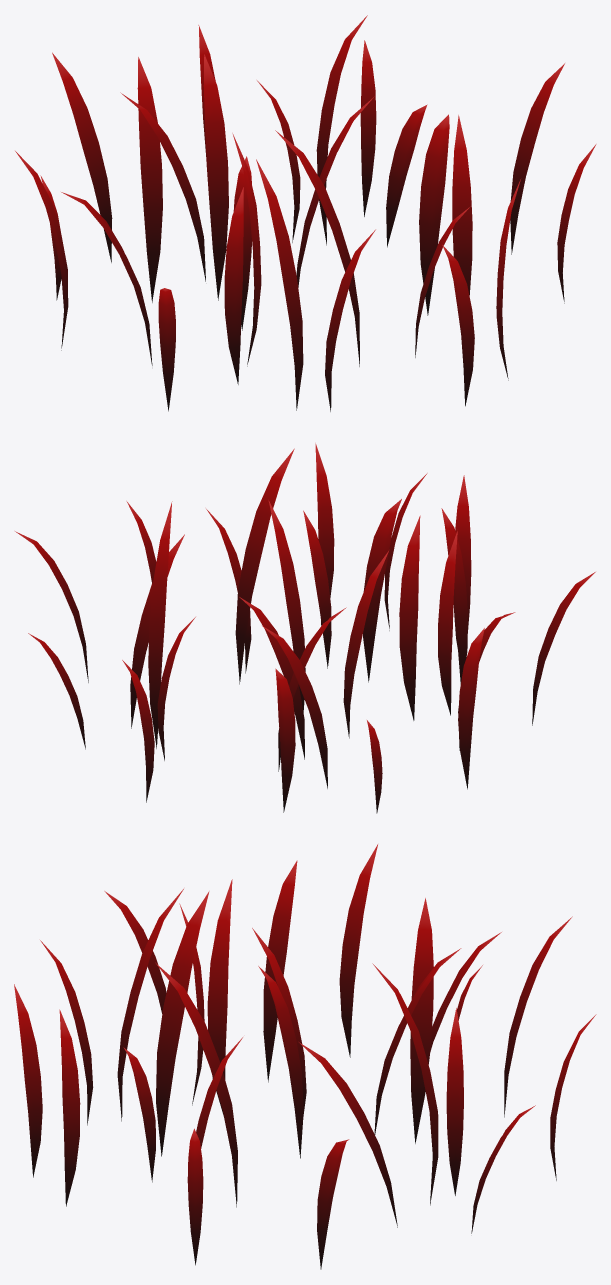
File: mod_hierba1.fbx
The picture shows the model from 3 angles, top to bottom: view 1: azimuth 30°, elevation 25°; view 2: azimuth 150°, elevation 25°; view 3: azimuth 270°, elevation 25°; orthographic projection. The views are drawn at different scales.
Visible parts, largest first — view 1: hierba; view 2: hierba; view 3: hierba.
Part boxes in pixels (bbox=[...]): hierba: bbox=[15, 15, 596, 411]; hierba: bbox=[15, 443, 595, 813]; hierba: bbox=[14, 844, 596, 1269].
Bounding box in the file's own units: 3.33 × 1.53 × 3.13.
